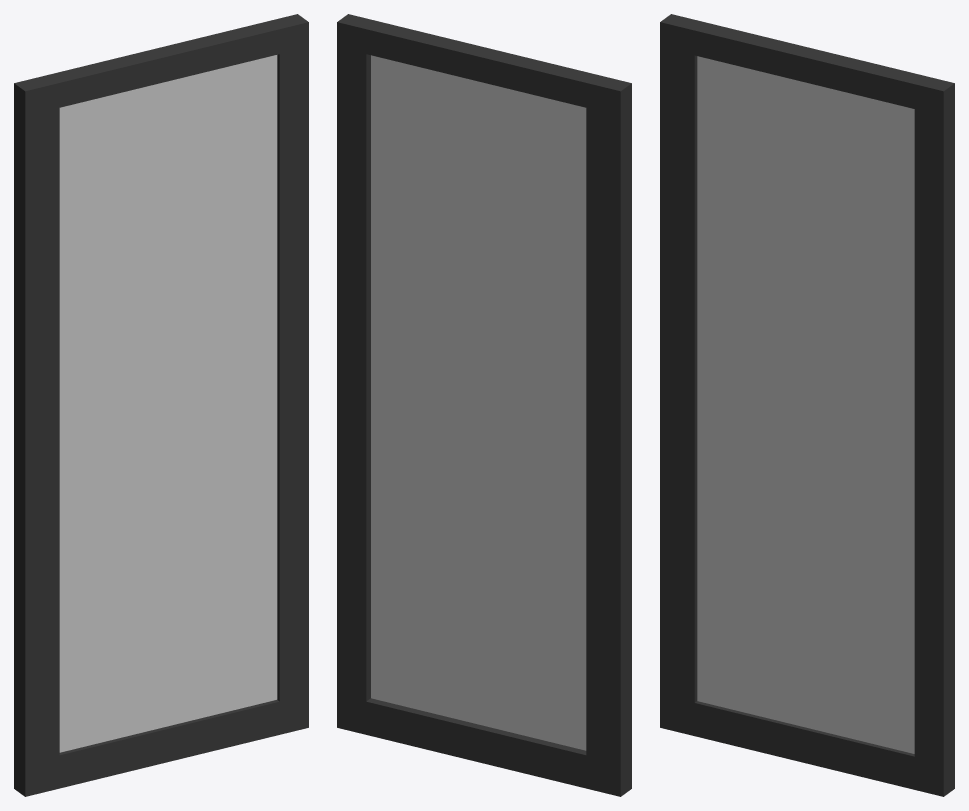
Rendered from H_Cabinet_Door_1.fbx.
3 views of the same model, side by side, from view 1: azimuth 30°, elevation 25°; view 2: azimuth 150°, elevation 25°; view 3: azimuth 330°, elevation 25° (orthographic).
Visible parts, largest first — view 1: H_Cabinet_Door_1; view 2: H_Cabinet_Door_1; view 3: H_Cabinet_Door_1.
Part boxes in pixels (x1,y1,x2,y2): H_Cabinet_Door_1: [14, 14, 308, 796]; H_Cabinet_Door_1: [337, 14, 631, 796]; H_Cabinet_Door_1: [660, 14, 954, 796].
Size of the model in its own units: 249 by 16.86 by 592.
